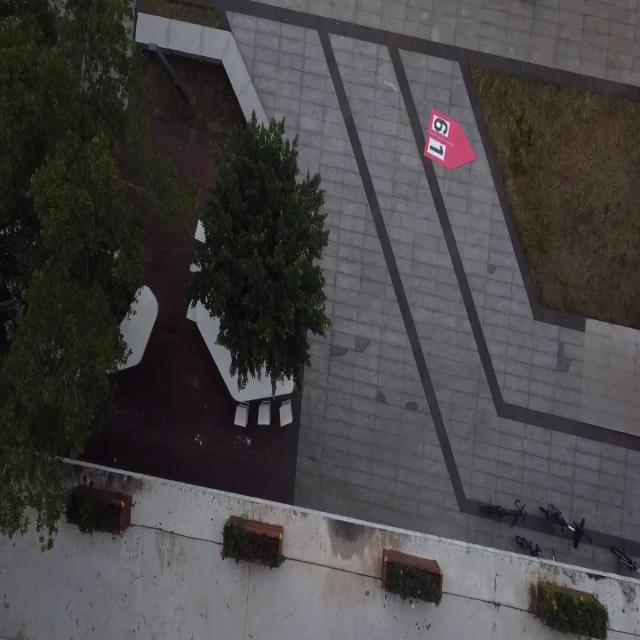-sign-: (423, 106, 477, 172)
